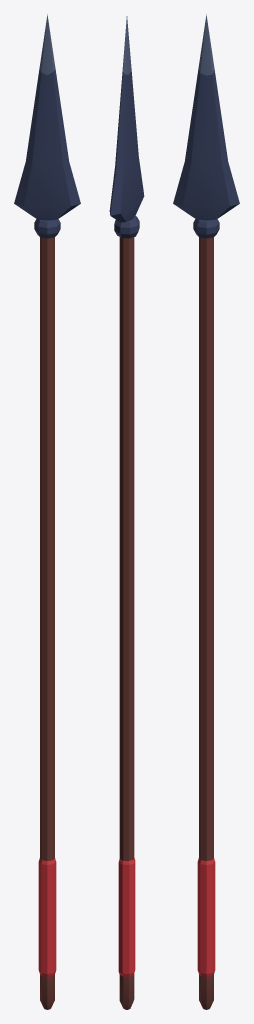
The model's file is Polearm_03.fbx.
The picture shows the model from 3 angles, left to right: view 1: azimuth 90°, elevation 25°; view 2: azimuth 150°, elevation 25°; view 3: azimuth 270°, elevation 25°; orthographic projection.
Parts seen in each view (by area): view 1: Polearm_03; view 2: Polearm_03; view 3: Polearm_03.
Part boxes in pixels (x1,y1,x2,y2): Polearm_03: [14, 14, 80, 1009]; Polearm_03: [109, 16, 144, 1009]; Polearm_03: [173, 14, 239, 1009].
Size of the model in its own units: 6.47 by 270 by 16.49.
